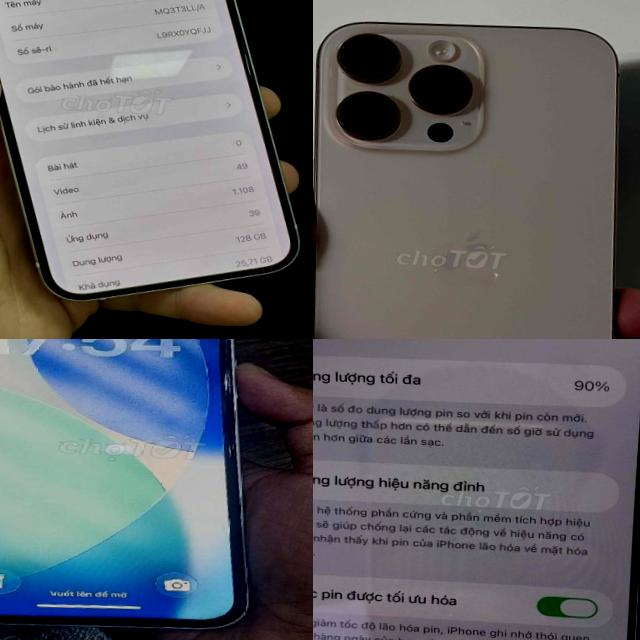scratch: (383, 89, 408, 107)
